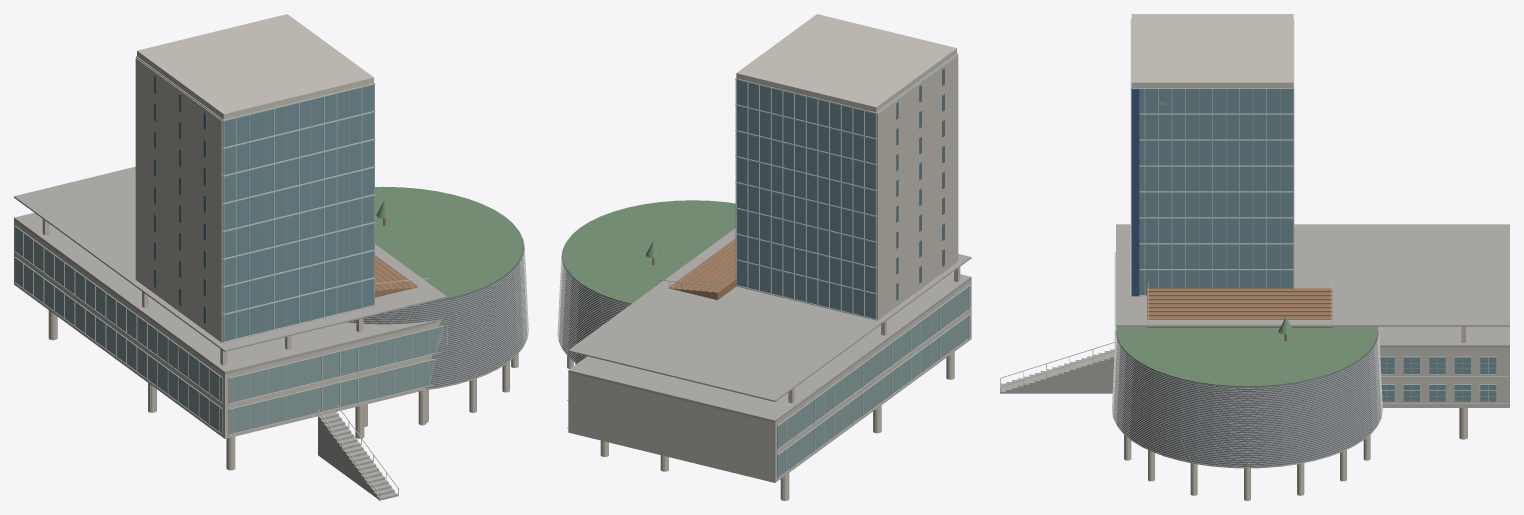
The picture shows the model from 3 angles, left to right: view 1: azimuth 30°, elevation 25°; view 2: azimuth 150°, elevation 25°; view 3: azimuth 270°, elevation 25°; orthographic projection. The views are drawn at different scales.
Visible parts, largest first — view 1: b05__stone-wall, b05__glass, b05__glass-light, b05__ground-stone, b05__frame, b05__green, b05__metal, b05__steps, b05__cream-pole, b05__glass-dark, b05__wood; view 2: b05__stone-wall, b05__ground-stone, b05__glass, b05__frame, b05__green, b05__glass-light, b05__metal, b05__wood, b05__glass-dark, b05__cream-pole; view 3: b05__glass, b05__ground-stone, b05__metal, b05__frame, b05__stone-wall, b05__green, b05__wood, b05__steps, b05__cream-pole, b05__blue.
Boxes of the visible parts, left/top/right/bottom form: b05__stone-wall: left=14, top=14, right=440, bottom=438; b05__glass: left=140, top=60, right=373, bottom=341; b05__glass-light: left=15, top=226, right=443, bottom=434; b05__ground-stone: left=14, top=166, right=446, bottom=374; b05__frame: left=14, top=56, right=528, bottom=500; b05__green: left=375, top=186, right=523, bottom=303; b05__metal: left=348, top=231, right=526, bottom=389; b05__steps: left=318, top=412, right=397, bottom=500; b05__cream-pole: left=48, top=310, right=518, bottom=470; b05__glass-dark: left=154, top=75, right=206, bottom=324; b05__wood: left=375, top=218, right=417, bottom=297; b05__stone-wall: left=568, top=14, right=971, bottom=482; b05__ground-stone: left=568, top=228, right=971, bottom=422; b05__glass: left=736, top=60, right=949, bottom=318; b05__frame: left=557, top=53, right=970, bottom=478; b05__green: left=562, top=200, right=735, bottom=304; b05__glass-light: left=777, top=285, right=970, bottom=478; b05__metal: left=559, top=239, right=735, bottom=363; b05__wood: left=652, top=239, right=736, bottom=300; b05__glass-dark: left=896, top=68, right=944, bottom=300; b05__cream-pole: left=567, top=352, right=954, bottom=500; b05__glass: left=1131, top=89, right=1496, bottom=401; b05__ground-stone: left=1116, top=224, right=1509, bottom=347; b05__metal: left=1113, top=291, right=1381, bottom=467; b05__frame: left=1000, top=19, right=1509, bottom=467; b05__stone-wall: left=1131, top=14, right=1509, bottom=407; b05__green: left=1117, top=318, right=1377, bottom=387; b05__wood: left=1147, top=288, right=1332, bottom=341; b05__steps: left=1000, top=349, right=1114, bottom=393; b05__cream-pole: left=1124, top=408, right=1467, bottom=500; b05__blue: left=1132, top=89, right=1139, bottom=296.
Size of the model in its own units: 49.76 by 47.5 by 66.03.
